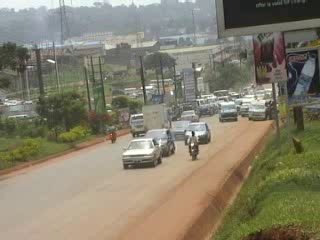Car: (121, 136, 163, 168), (141, 127, 177, 158), (183, 121, 212, 147), (170, 118, 192, 141), (179, 109, 201, 122), (196, 104, 214, 118)
Motorcycle: (186, 129, 201, 160), (105, 121, 120, 143)
